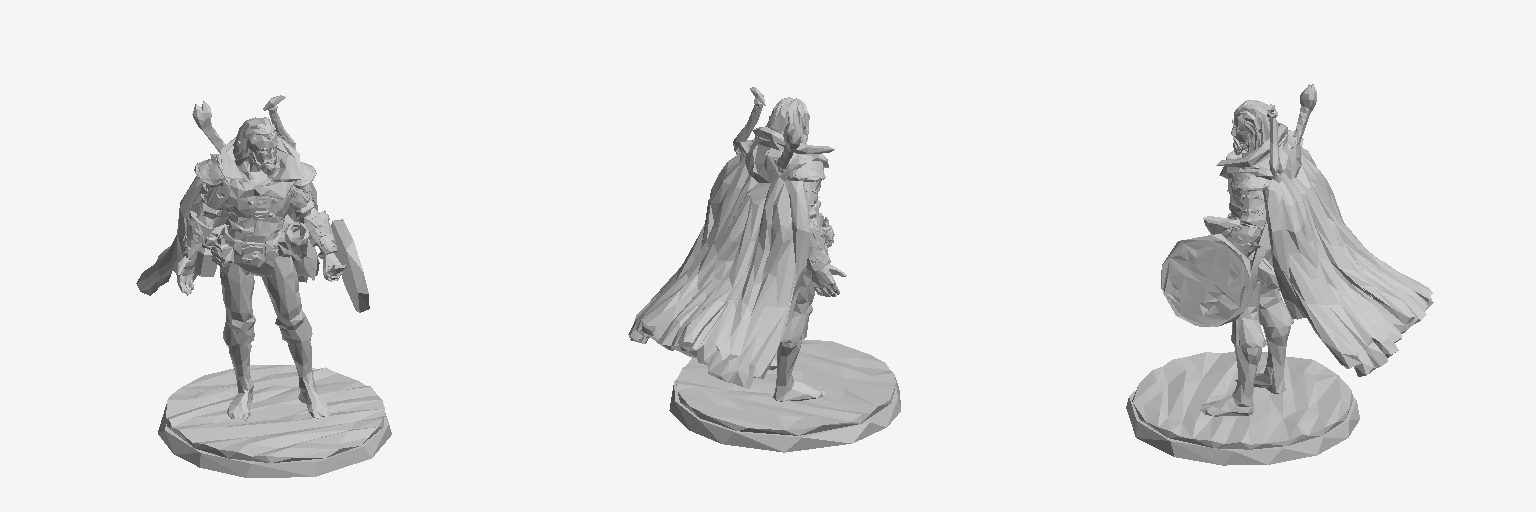
The model's file is Brightstar no eyes v1.obj.
3 views of the same model, side by side, from view 1: azimuth 30°, elevation 25°; view 2: azimuth 150°, elevation 25°; view 3: azimuth 270°, elevation 25° (orthographic).
Visible parts, largest first — view 1: Brightstar_(no_eyes); view 2: Brightstar_(no_eyes); view 3: Brightstar_(no_eyes).
Part boxes in pixels (x1,y1,x2,y2): Brightstar_(no_eyes): (136, 95, 391, 477); Brightstar_(no_eyes): (628, 87, 900, 452); Brightstar_(no_eyes): (1126, 84, 1433, 465).
Size of the model in its own units: 0.7604 by 1.16 by 1.01.